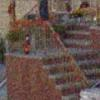stairs: (37, 50, 100, 100)
